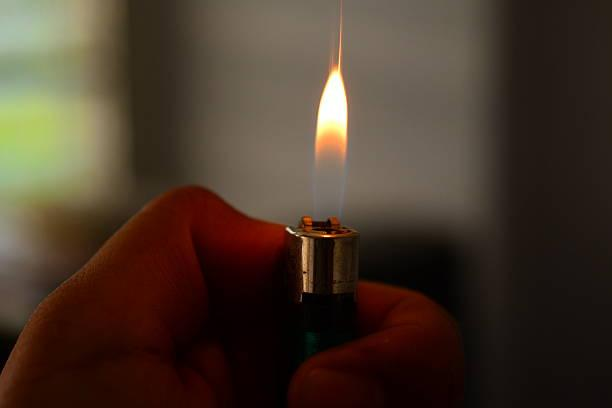Fire: (312, 67, 348, 217)
